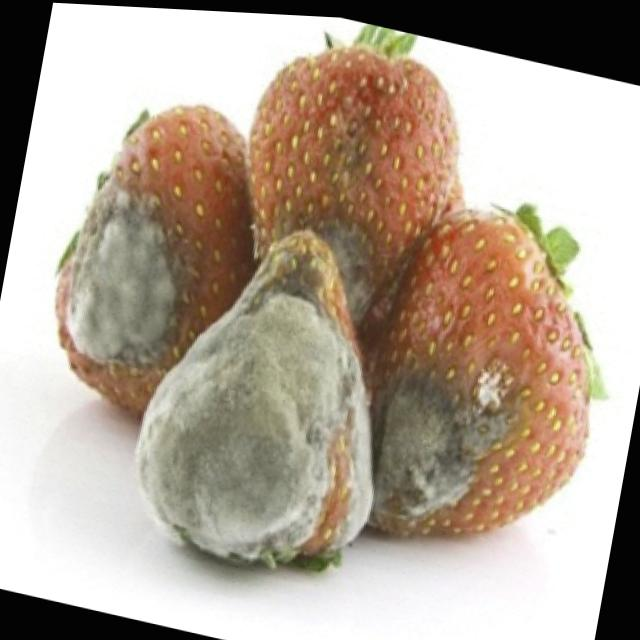Gray Mold: (133, 226, 373, 567), (365, 329, 543, 532), (251, 100, 393, 328), (52, 164, 193, 376)
